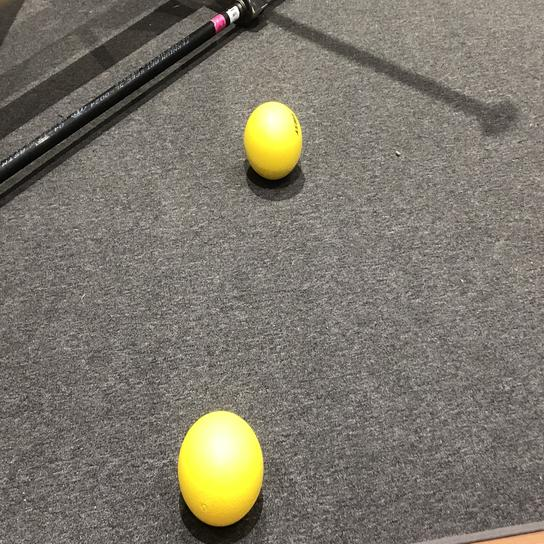ball: (171, 406, 264, 529), (241, 97, 304, 182)
